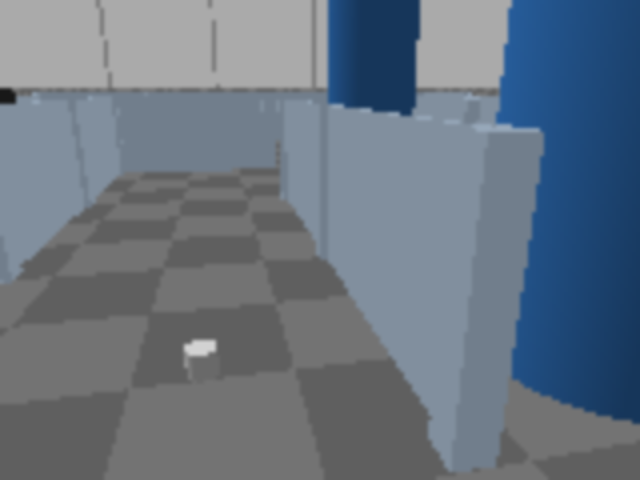person: (490, 0, 638, 424)
puck: (185, 340, 219, 382)
